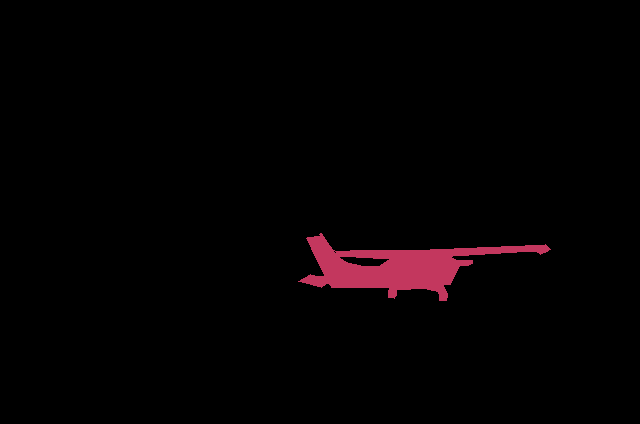Airplane: (298, 233, 551, 301)
